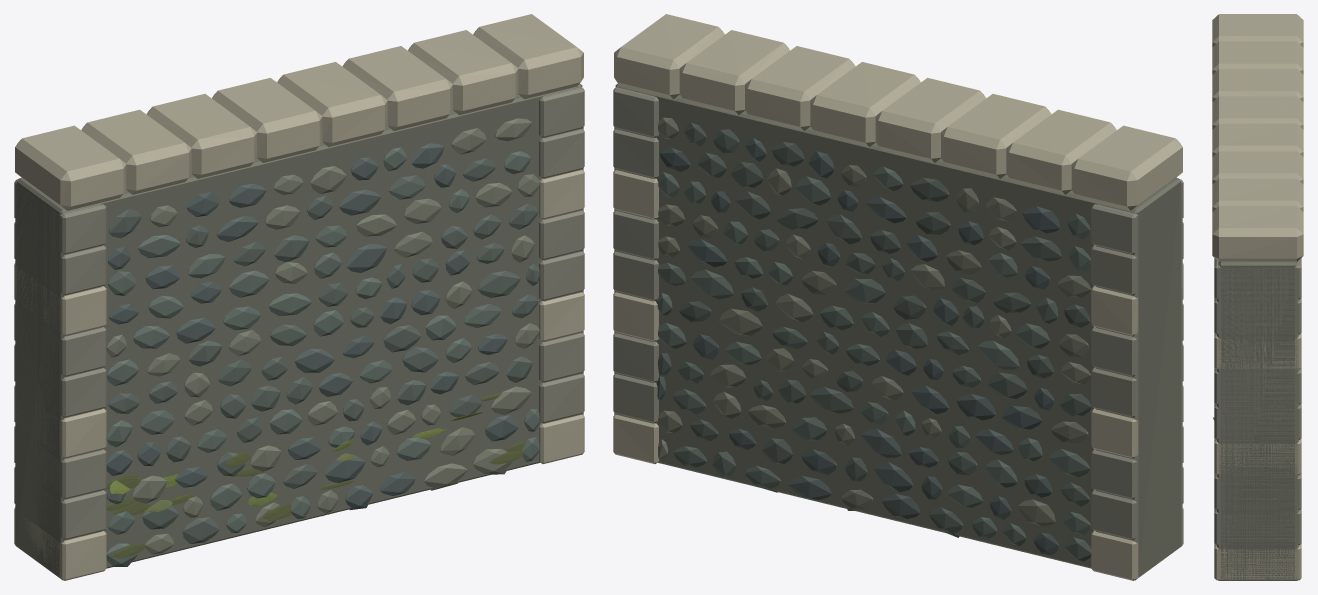
The model's file is flint_wall_4m.glb.
3 renders of one model, left to right at view 1: azimuth 30°, elevation 25°; view 2: azimuth 150°, elevation 25°; view 3: azimuth 270°, elevation 25°, orthographic. The views are drawn at different scales.
Parts seen in each view (by area): view 1: Detailed structure surfaces; view 2: Detailed structure surfaces; view 3: Detailed structure surfaces.
Boxes of the visible parts, bbox=[...] form: Detailed structure surfaces: bbox=[14, 14, 584, 580]; Detailed structure surfaces: bbox=[613, 14, 1183, 580]; Detailed structure surfaces: bbox=[1212, 14, 1303, 580].
Size of the model in its own units: 4 by 3 by 0.7.
1 material, 1 textured.
